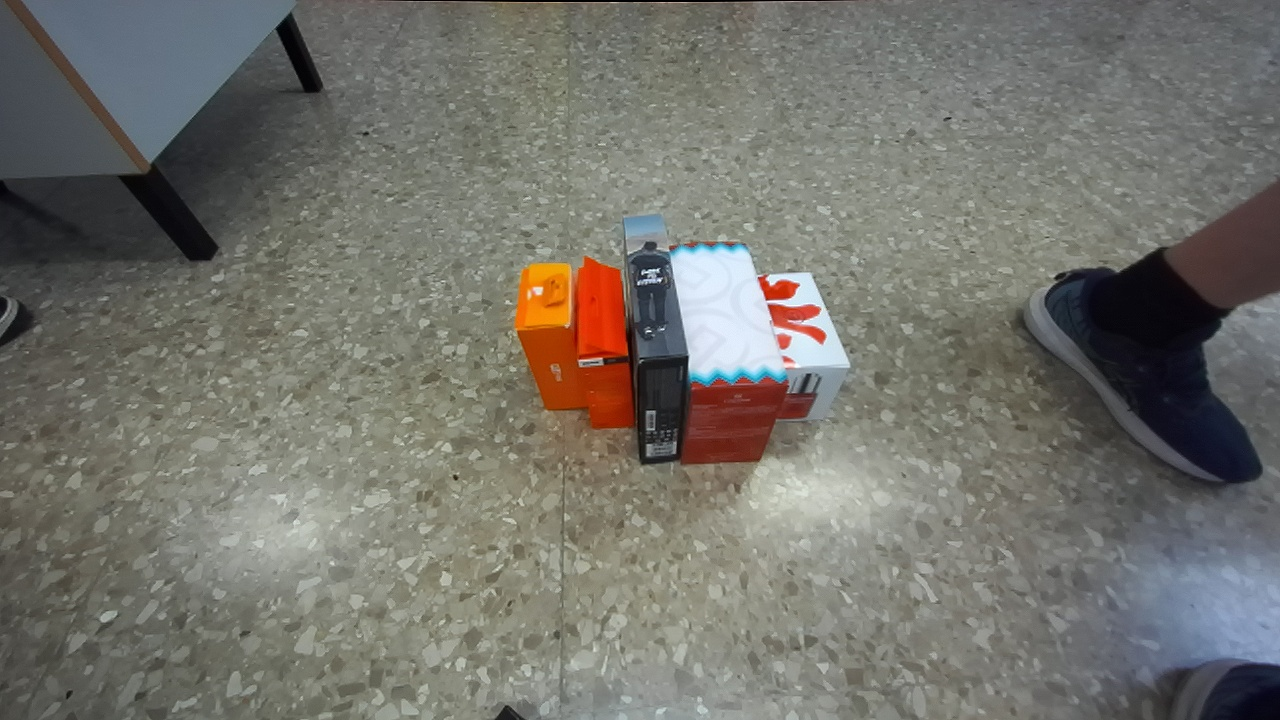caja_busbar: (671, 242, 786, 463)
caja_chasis: (622, 215, 688, 463)
caja_manguera: (577, 257, 633, 427)
caja_pcb: (514, 263, 584, 409)
caja_potencia: (758, 273, 850, 422)
